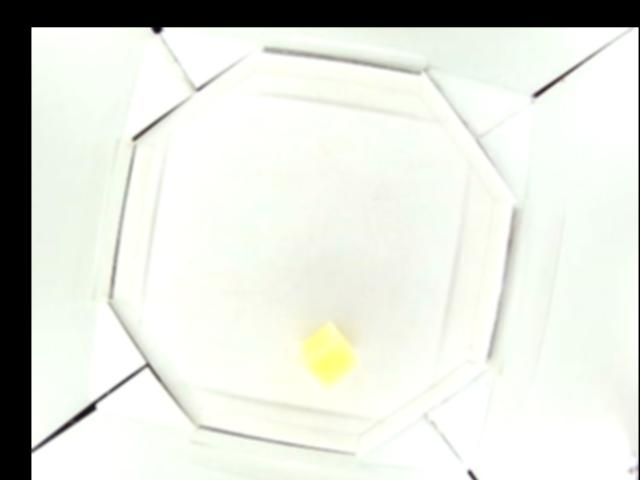Potato: (299, 322, 356, 383)
